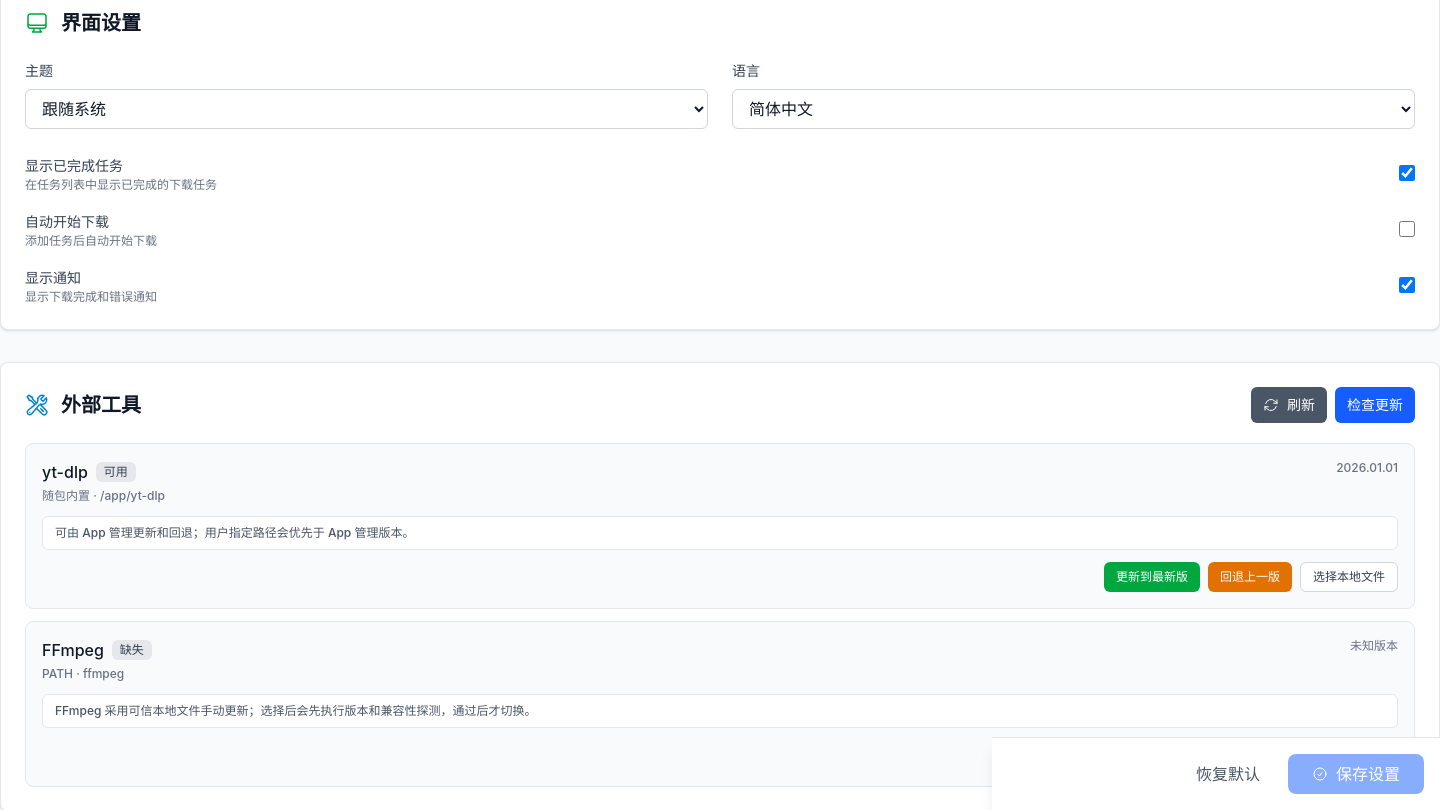
Test: SettingsView › checks external tool updates from settings
(page scrolled)
What coordinates should you click on to do the following:
click the button "检查更新"
I would click on:
 (1375, 405)
Its box is [1335,387,1415,423].
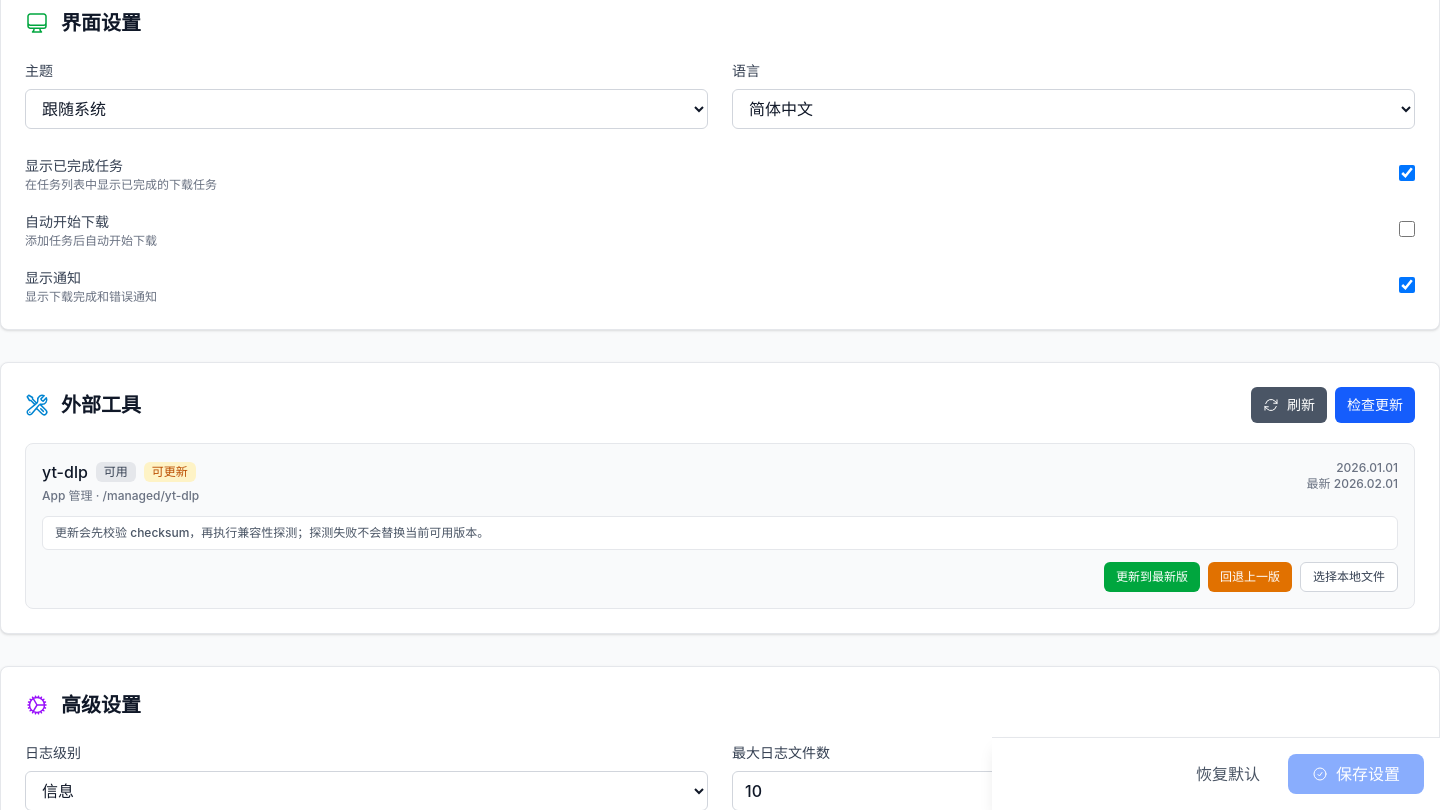
Expected: the text "最新 2026.02.01" is shown, [1307,476,1398,492]
Expected: the text "更新会先校验 checksum，再执行兼容性探测；探测失败不会替换当前可用版本。" is shown, [42,516,1398,550]
